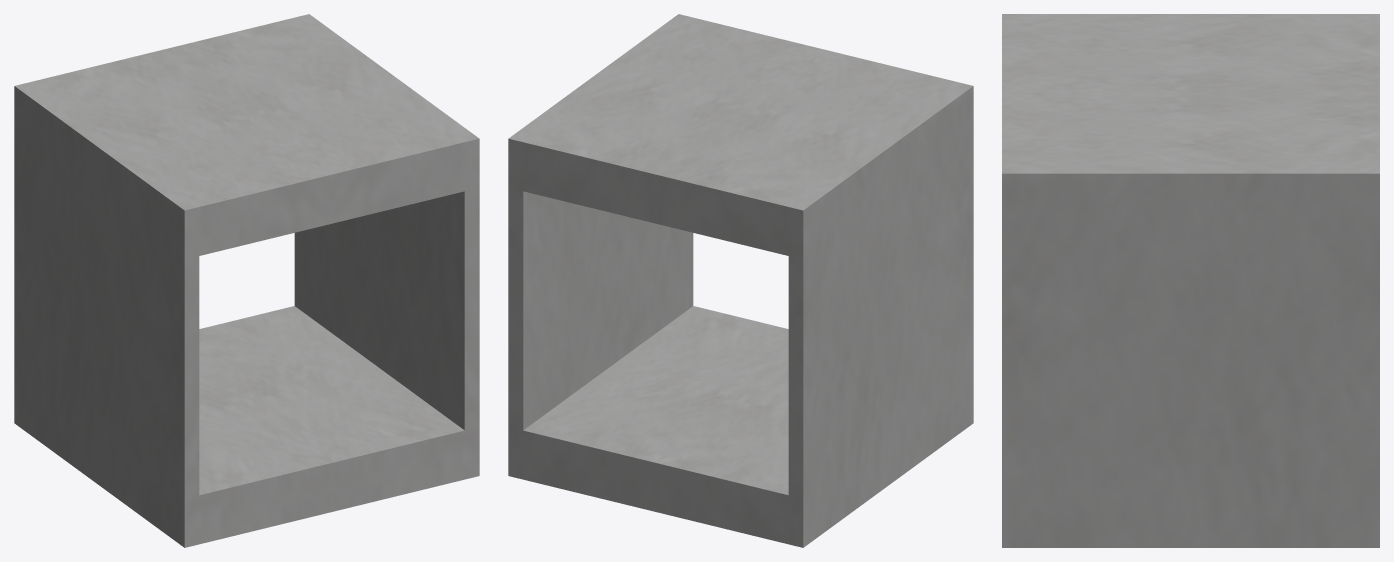
File: Cajon.fbx
3 views of the same model, side by side, from view 1: azimuth 30°, elevation 25°; view 2: azimuth 150°, elevation 25°; view 3: azimuth 270°, elevation 25° (orthographic). The views are drawn at different scales.
Visible parts, largest first — view 1: Cube.004; view 2: Cube.004; view 3: Cube.004.
Boxes of the visible parts, <box> form: Cube.004: <box>14,14,479,547</box>; Cube.004: <box>508,14,973,547</box>; Cube.004: <box>1002,14,1379,547</box>.
Bounding box in the file's own units: 50 × 54.67 × 50.
Materials: 1 (1 with a texture image).
